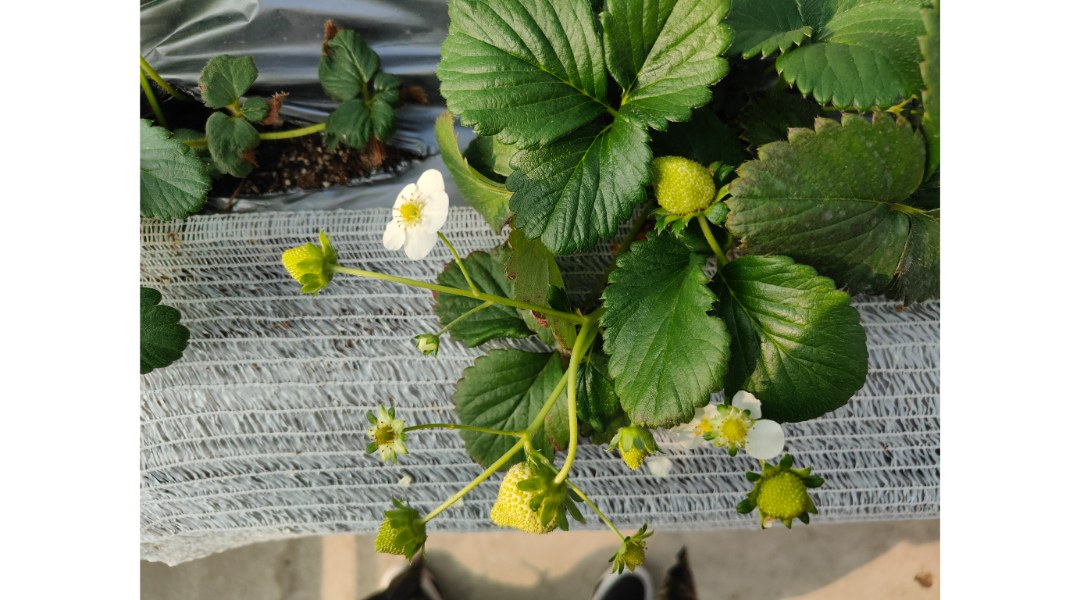berry: (489, 461, 581, 536), (744, 453, 820, 538), (640, 150, 722, 220), (276, 227, 344, 295), (355, 406, 416, 467), (377, 499, 430, 567), (602, 418, 657, 466), (406, 327, 443, 365)
flower: (376, 159, 457, 266), (715, 383, 788, 471)
strain: (421, 444, 521, 531), (552, 330, 595, 496), (332, 259, 454, 305), (484, 289, 583, 322), (405, 421, 513, 441), (695, 210, 730, 267), (529, 379, 564, 427)
